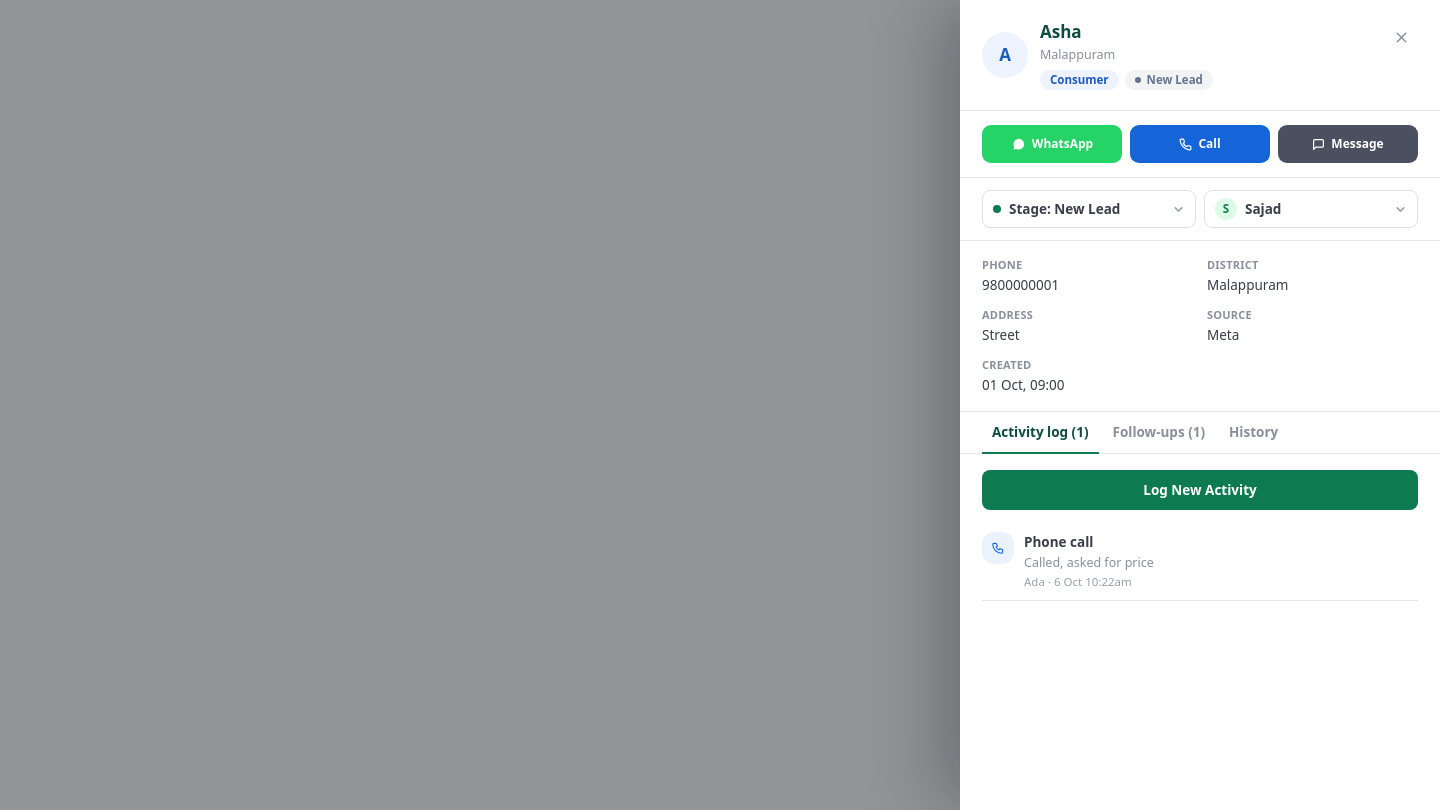
Test: lead panel activity section › splits the history into Activity log, Follow-ups and Stage history tabs
expect the text "Called, asked for price" is shown: met, box [1024,554,1154,571]
expect the text "Show sample" is not shown: met
Click the tab "Follow-ups (1)": (1159, 433) [1102,412,1215,454]
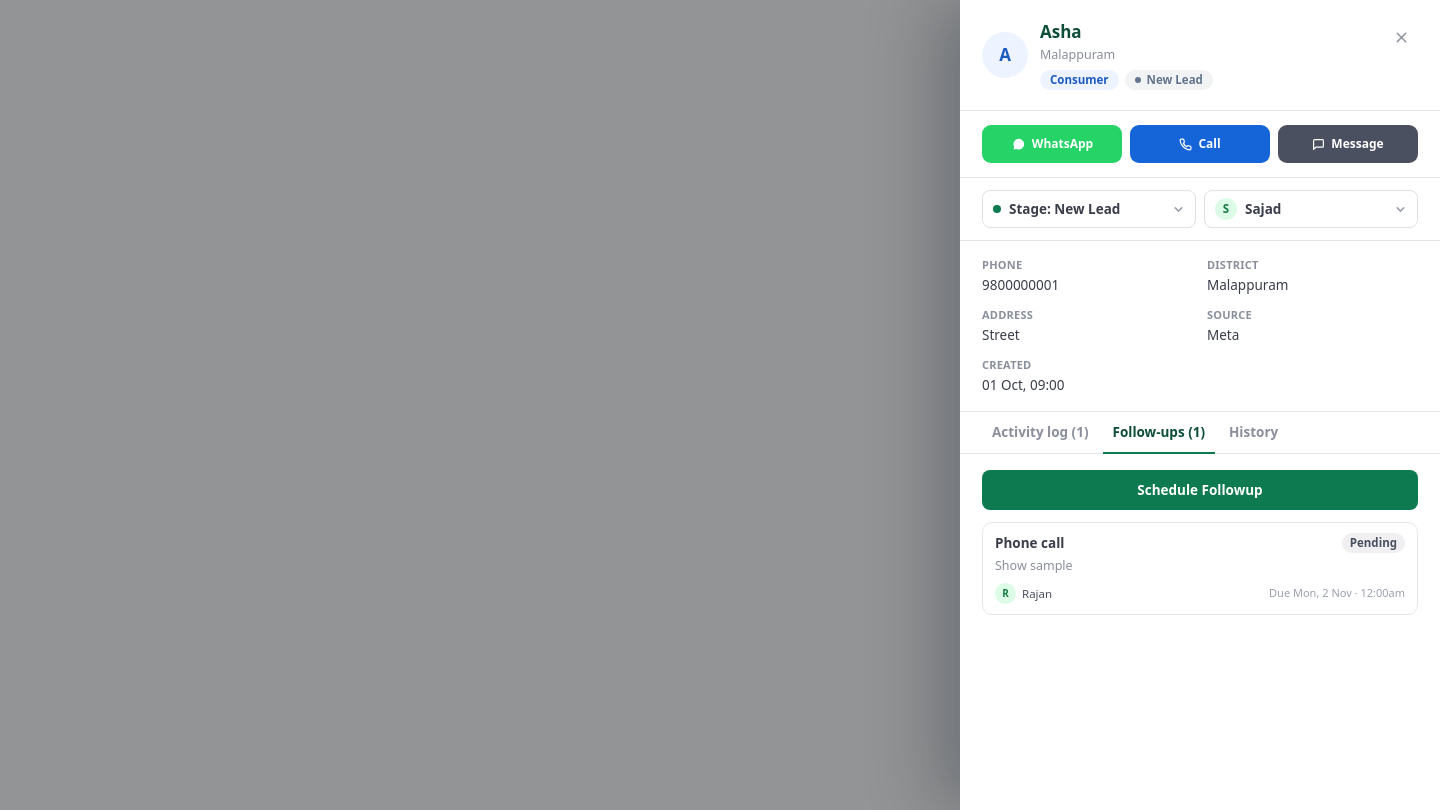
expect the text "Show sample" is shown: met, box [995,557,1073,574]
expect the text "Called, asked for price" is gone: met
expect the button "Schedule Followup" is shown: met, box [982,470,1418,510]
Click the tab "History": (1254, 433) [1219,412,1288,454]
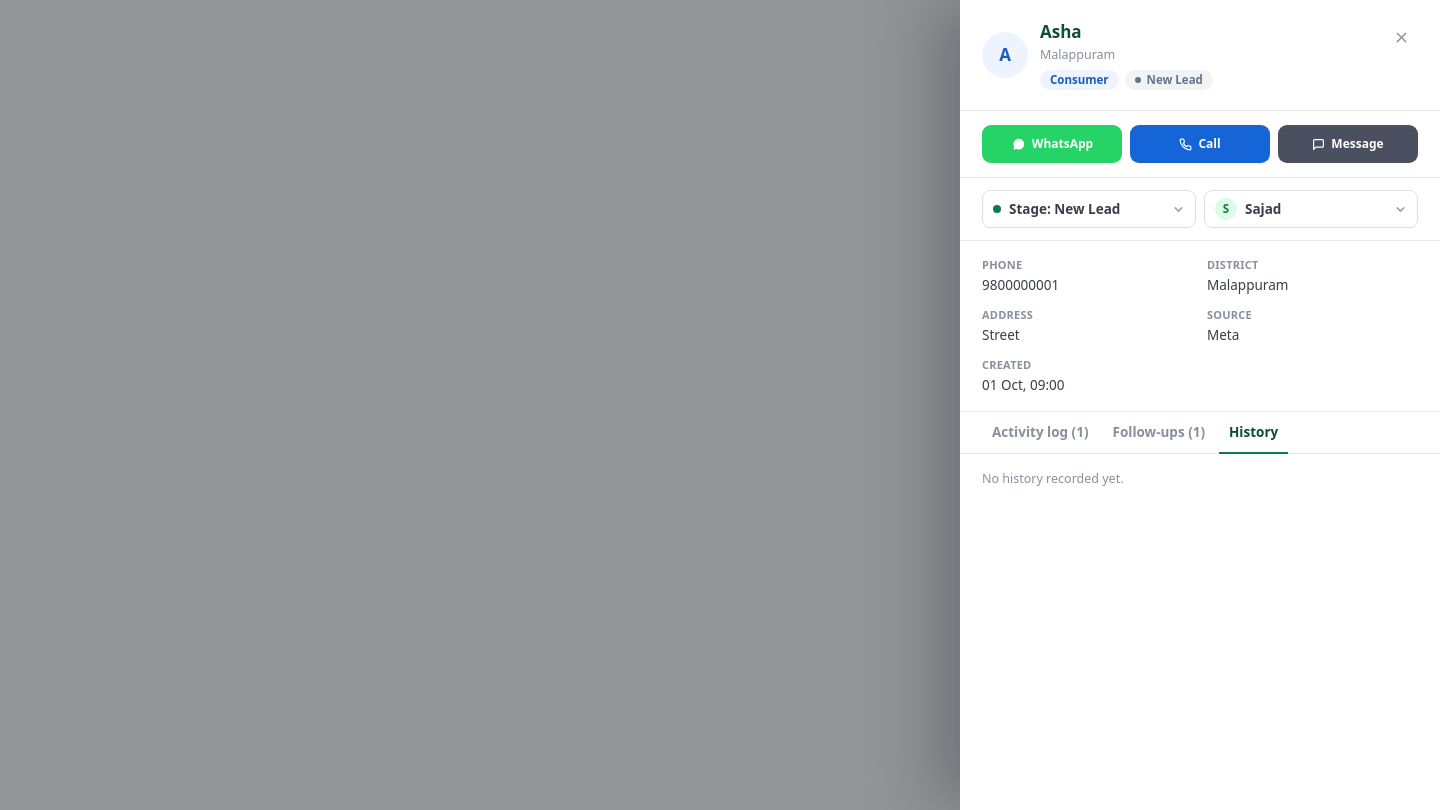
expect the button "Log New Activity" is not shown: met
expect the text "No history recorded yet." is shown: met, box [982,470,1124,487]
expect the button "Schedule Followup" is gone: met
